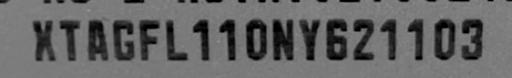letter: (268, 15, 298, 61), (162, 15, 190, 63), (321, 16, 349, 64), (29, 16, 57, 62), (460, 14, 486, 62), (432, 15, 458, 61), (243, 16, 269, 62), (350, 16, 376, 62), (296, 17, 322, 63), (110, 17, 136, 63), (138, 16, 162, 64), (56, 18, 82, 62), (188, 16, 212, 62), (85, 16, 109, 62), (405, 13, 427, 63), (216, 16, 236, 64), (378, 15, 398, 61)
